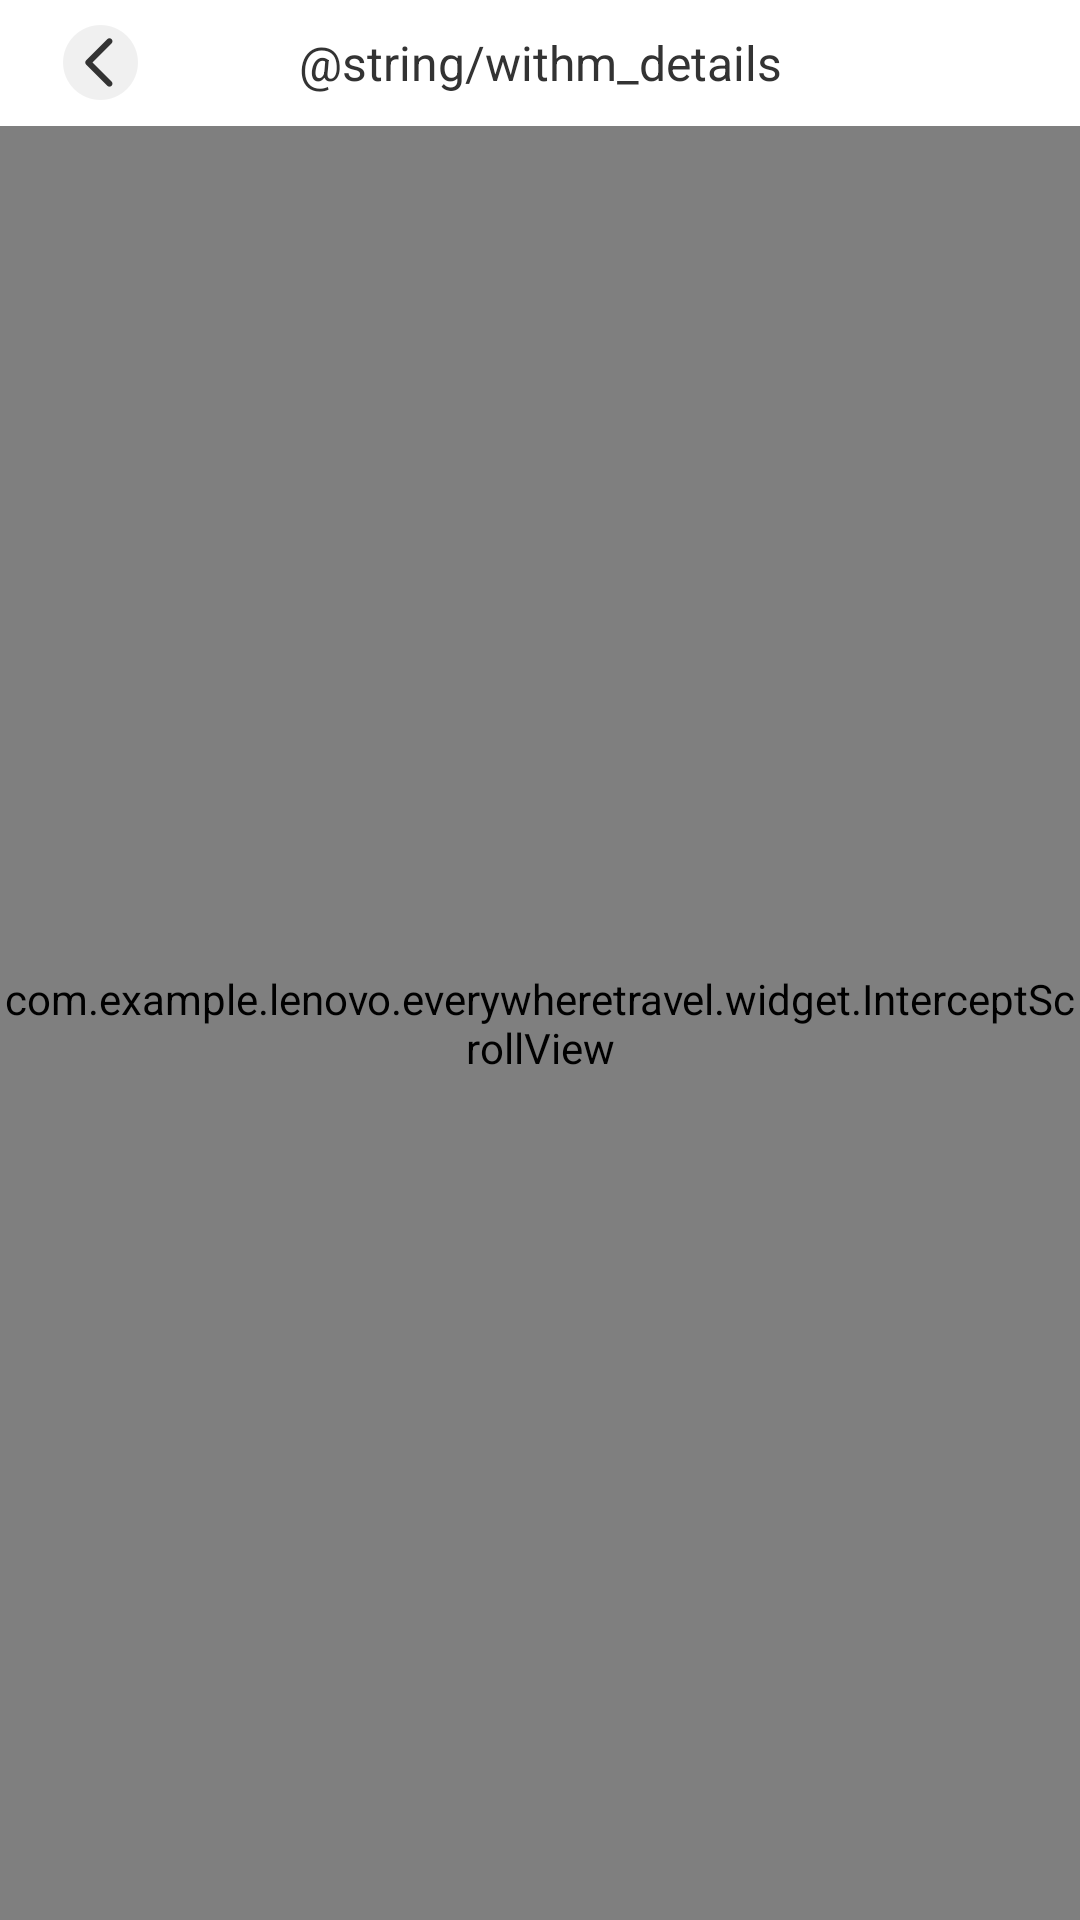

Screen size 1080w x 1920h. Icon name, then its box in pixels as (x1, y1, x2, y2):
back: (63, 25, 138, 100)
